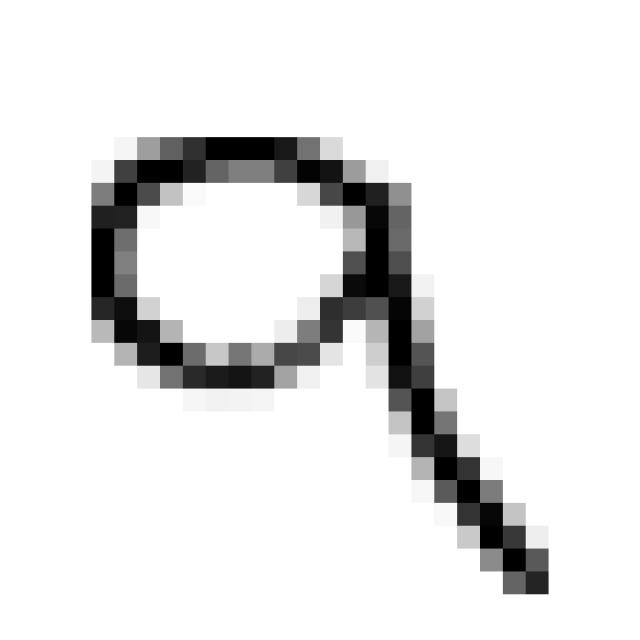9 -nine-: (50, 94, 569, 626)
